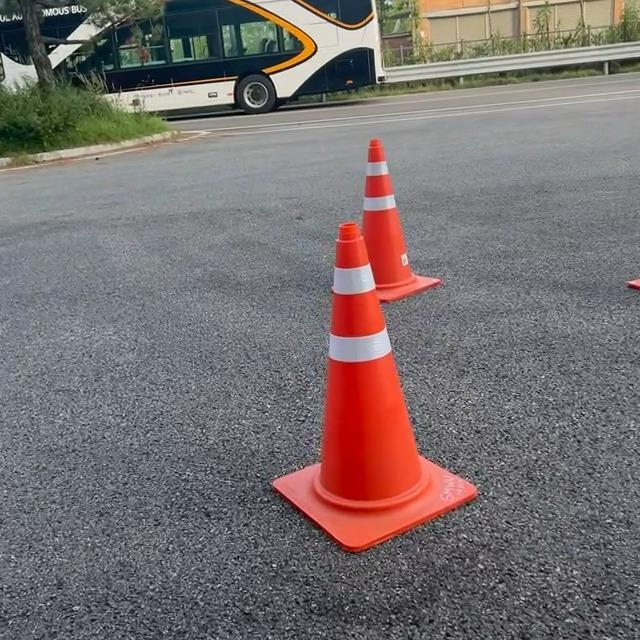fallen_object: (263, 222, 517, 590), (307, 136, 433, 311)
